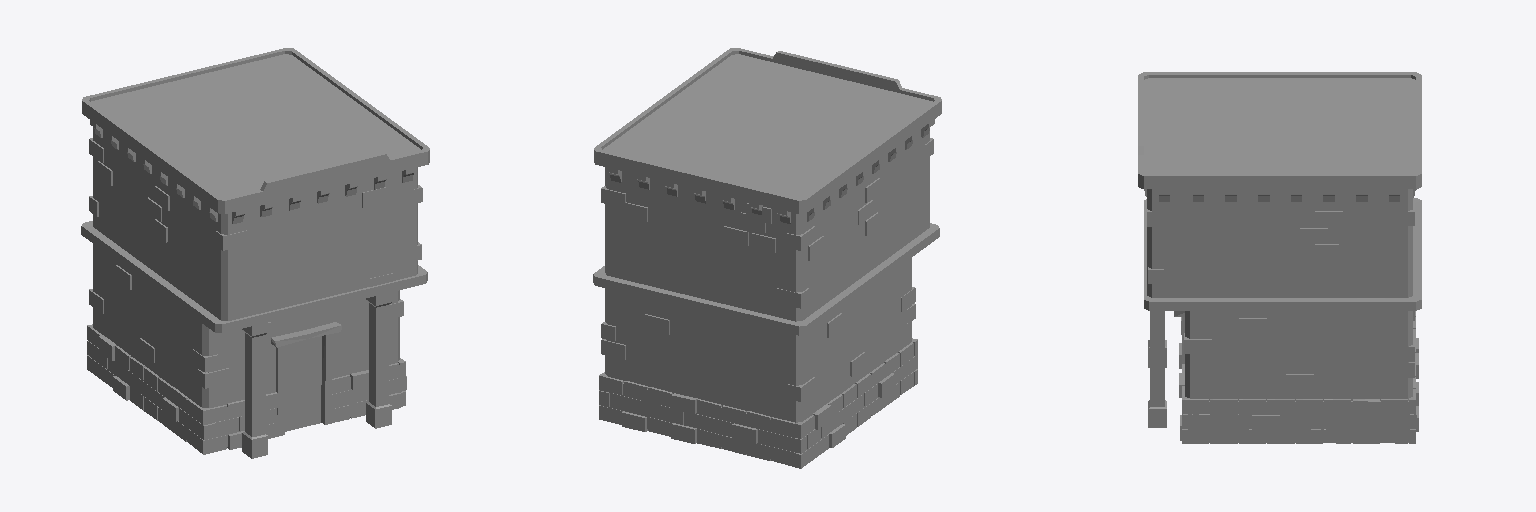
File: 2Story_Columns_Base.obj
3 views of the same model, side by side, from view 1: azimuth 30°, elevation 25°; view 2: azimuth 150°, elevation 25°; view 3: azimuth 270°, elevation 25° (orthographic).
Visible parts, largest first — view 1: 2Story_Columns_Base_Cube.053; view 2: 2Story_Columns_Base_Cube.053; view 3: 2Story_Columns_Base_Cube.053.
Part boxes in pixels (x1,y1,x2,y2): 2Story_Columns_Base_Cube.053: (81,48,429,458); 2Story_Columns_Base_Cube.053: (593,48,941,468); 2Story_Columns_Base_Cube.053: (1138,72,1421,443).
Size of the model in its own units: 2.16 by 2.7 by 2.49.